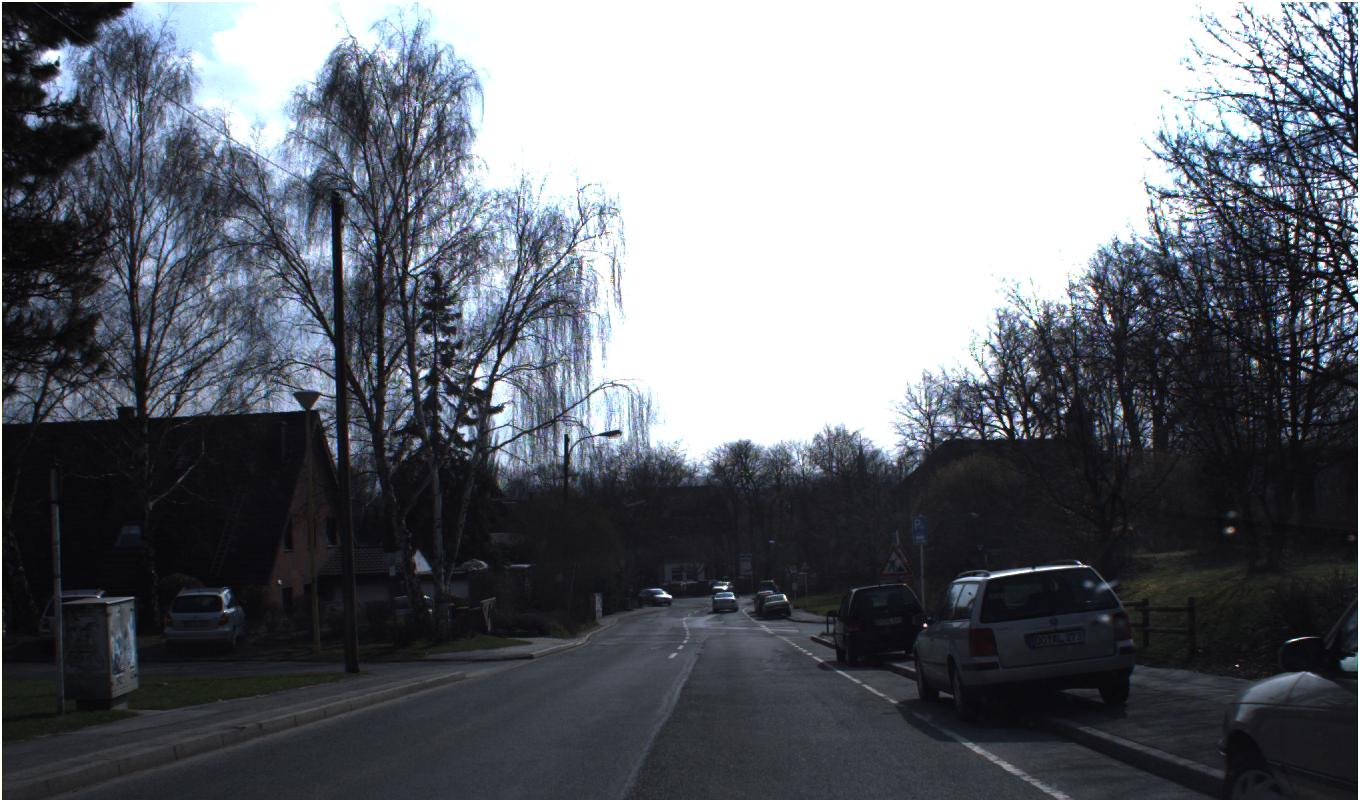danger: (876, 543, 914, 578)
